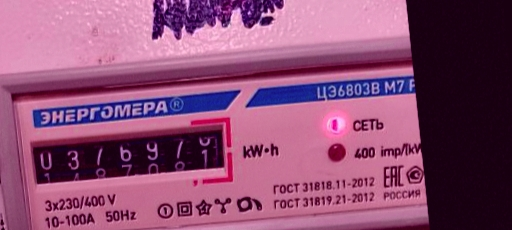0: (38, 147, 55, 171)
1: (199, 146, 210, 169)
3: (66, 148, 81, 170)
6: (117, 138, 134, 162)
7: (91, 142, 108, 166), (171, 134, 187, 158)
9: (144, 137, 160, 161)
screen: (20, 112, 240, 205)
